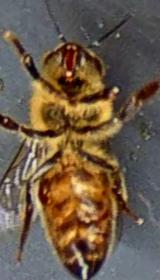varroa_mite: (29, 165, 56, 210)
